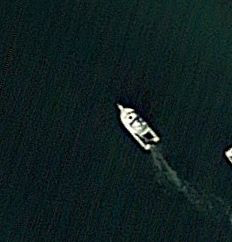boat: (116, 103, 160, 151)
